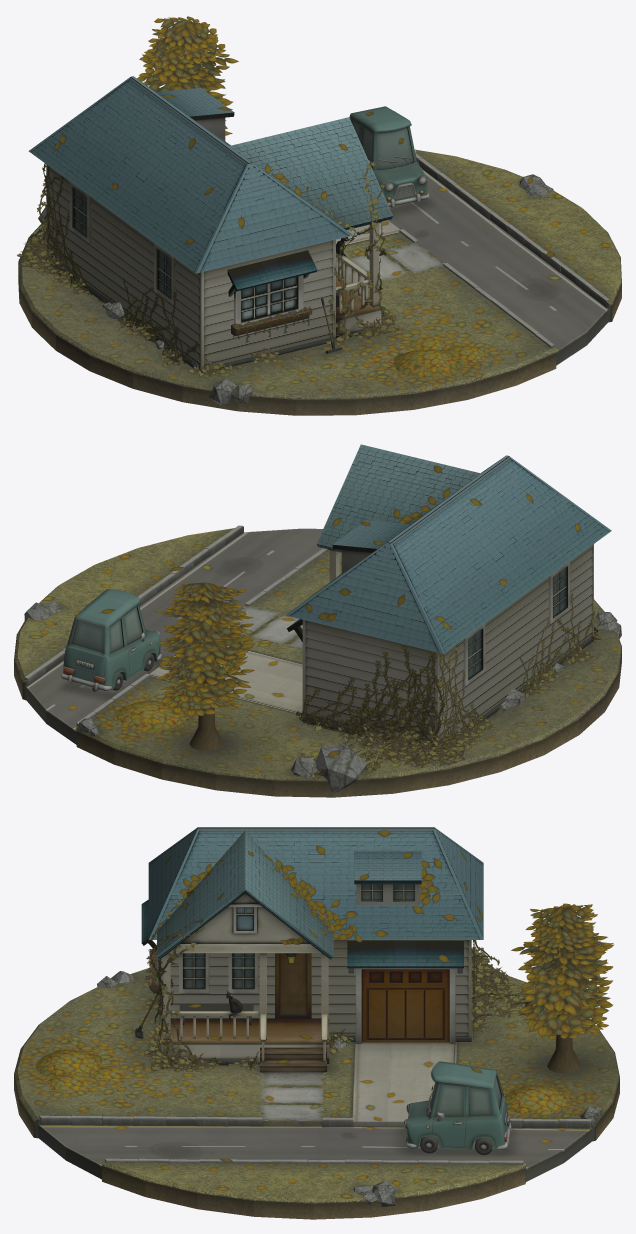
Rendered from autumn_house.glb.
The picture shows the model from 3 angles, top to bottom: view 1: azimuth 30°, elevation 25°; view 2: azimuth 150°, elevation 25°; view 3: azimuth 270°, elevation 25°; orthographic projection.
Visible parts, largest first — view 1: polySurface637, House_base, polySurface197, polySurface355, initialShadingGrouppolySurface116_polySurface3, House_window_01, polySurface226, polySurface243, House_smallroof_02, House_veranda, House_windows_06, House_windows_05 (+4 smaller); view 2: polySurface637, House_base, polySurface355, polySurface197, initialShadingGrouppolySurface116_polySurface3, polySurface276, polySurface250, House_smallroof_02, House_windows_05, House_windows_06, polySurface470, polySurface480 (+6 smaller); view 3: polySurface637, House_base, polySurface355, polySurface197, Garage_door, initialShadingGrouppolySurface116_polySurface3, House_veranda, polySurface179, House_roof_part_02, House_door, House_smallroof_02, House_stairs (+13 smaller).
Boxes of the visible parts, x1=… form: polySurface637: x1=18, y1=149, x2=621, y2=415; House_base: x1=28, y1=76, x2=353, y2=372; polySurface197: x1=229, y1=117, x2=392, y2=229; polySurface355: x1=137, y1=16, x2=238, y2=135; initialShadingGrouppolySurface116_polySurface3: x1=349, y1=106, x2=429, y2=207; House_window_01: x1=234, y1=275, x2=303, y2=324; polySurface226: x1=227, y1=250, x2=317, y2=296; polySurface243: x1=393, y1=349, x2=461, y2=376; House_smallroof_02: x1=156, y1=88, x2=234, y2=120; House_veranda: x1=336, y1=273, x2=381, y2=340; House_windows_06: x1=69, y1=181, x2=91, y2=244; House_windows_05: x1=154, y1=243, x2=175, y2=305; polySurface637: x1=14, y1=526, x2=621, y2=797; House_base: x1=285, y1=455, x2=611, y2=747; polySurface355: x1=154, y1=582, x2=254, y2=751; polySurface197: x1=316, y1=444, x2=480, y2=552; initialShadingGrouppolySurface116_polySurface3: x1=61, y1=589, x2=161, y2=691; polySurface276: x1=315, y1=744, x2=367, y2=792; polySurface250: x1=115, y1=701, x2=186, y2=731; House_smallroof_02: x1=332, y1=520, x2=410, y2=552; House_windows_05: x1=548, y1=561, x2=570, y2=624; House_windows_06: x1=463, y1=623, x2=485, y2=686; polySurface470: x1=418, y1=730, x2=465, y2=765; polySurface480: x1=375, y1=730, x2=424, y2=763; polySurface637: x1=14, y1=968, x2=619, y2=1219; House_base: x1=148, y1=827, x2=483, y2=1041; polySurface355: x1=511, y1=903, x2=613, y2=1073; polySurface197: x1=157, y1=830, x2=333, y2=959; Garage_door: x1=355, y1=968, x2=455, y2=1043; initialShadingGrouppolySurface116_polySurface3: x1=404, y1=1061, x2=511, y2=1155; House_veranda: x1=161, y1=1018, x2=329, y2=1063; polySurface179: x1=347, y1=941, x2=463, y2=973; House_roof_part_02: x1=180, y1=893, x2=309, y2=943; House_door: x1=275, y1=953, x2=311, y2=1018; House_smallroof_02: x1=354, y1=851, x2=421, y2=884; House_stairs: x1=260, y1=1047, x2=326, y2=1072.
Size of the model in its own units: 50.27 by 18.7 by 50.43.
6 materials, 5 textured.
